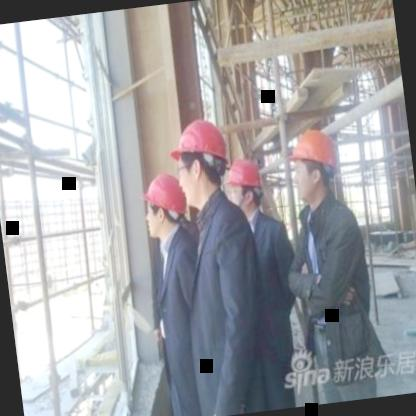helmet: (169, 112, 236, 207), (286, 127, 342, 208), (138, 167, 189, 244), (221, 155, 268, 215)
